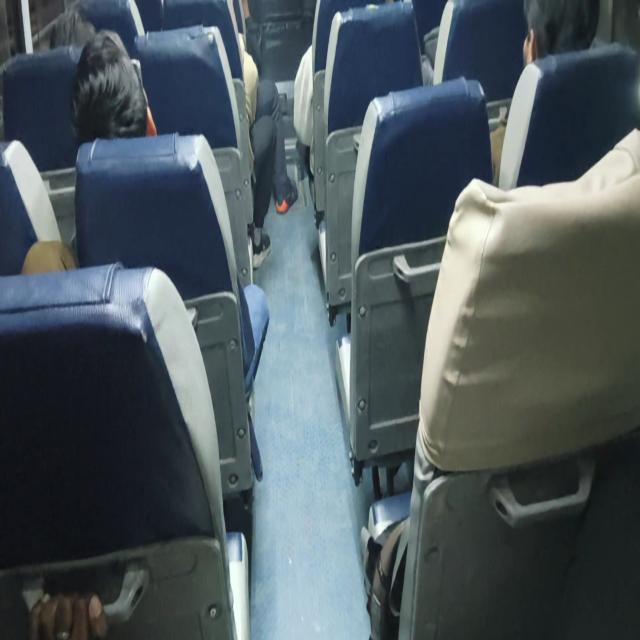person: (68, 28, 270, 398), (162, 0, 298, 269), (20, 28, 157, 274), (489, 0, 600, 186), (227, 0, 298, 215), (69, 28, 157, 144), (27, 590, 109, 638)
